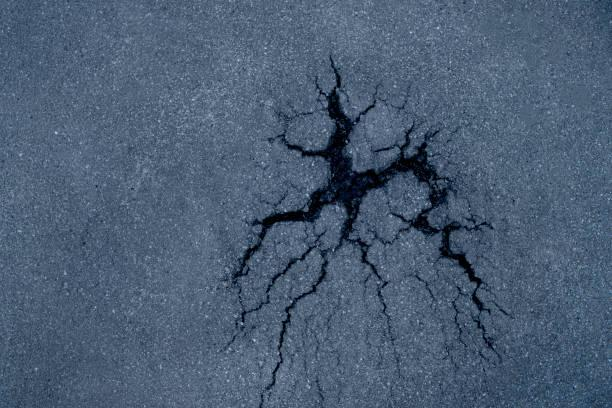D40: (253, 123, 462, 268)
